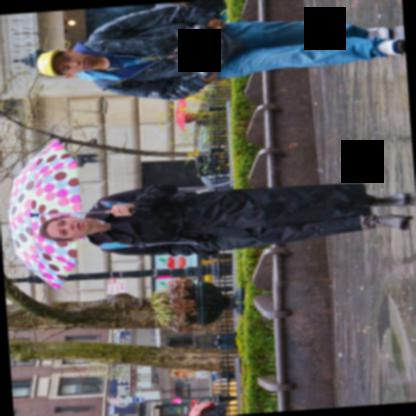backpack: (92, 187, 198, 248), (87, 28, 140, 87)
